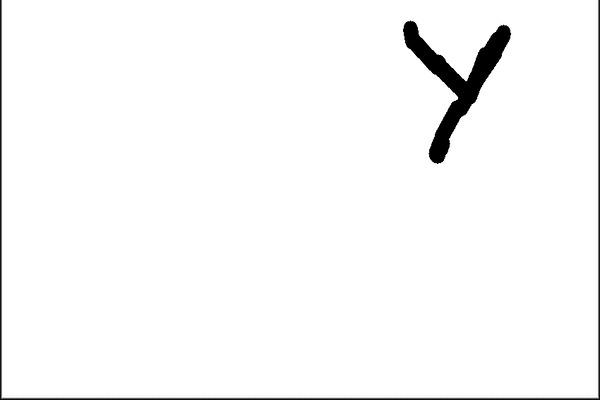Y: (393, 11, 515, 175)
